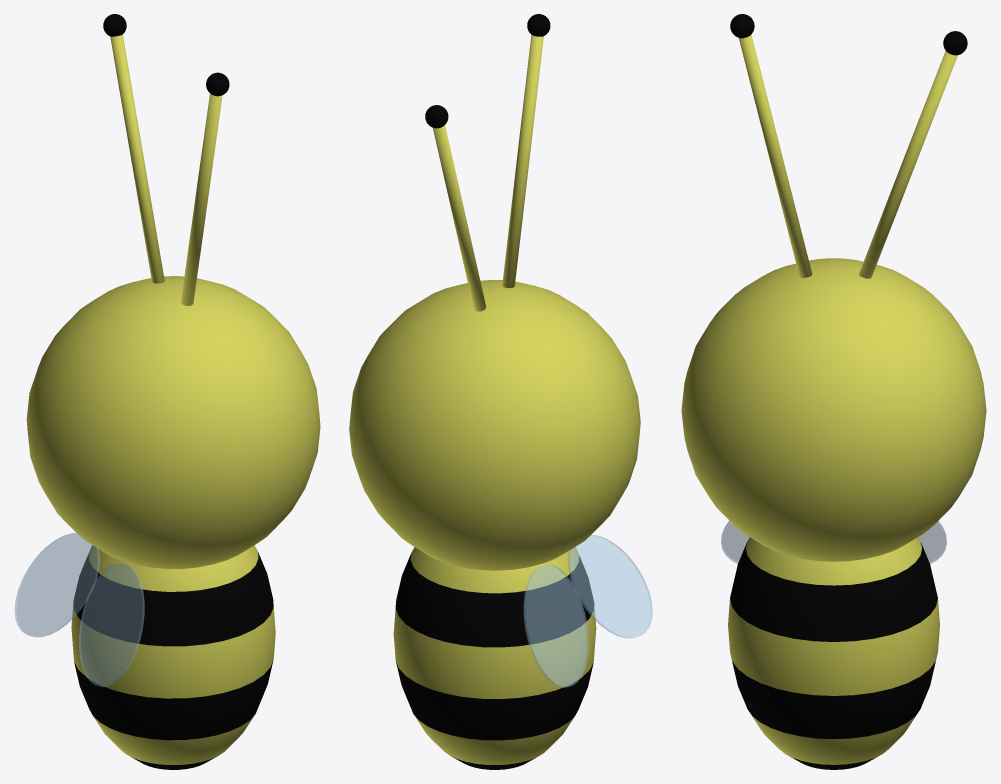
Rendered from Bee.glb.
3 renders of one model, left to right at view 1: azimuth 30°, elevation 25°; view 2: azimuth 150°, elevation 25°; view 3: azimuth 270°, elevation 25°, orthographic. The views are drawn at different scales.
Parts seen in each view (by area): view 1: Sphere, Sphere.001, Cylinder.003, Cylinder.002, Cylinder.001, Cylinder; view 2: Sphere, Sphere.001, Cylinder.002, Cylinder.003, Cylinder, Cylinder.001; view 3: Sphere, Sphere.001, Cylinder, Cylinder.001, Cylinder.002, Cylinder.003.
Part boxes in pixels (x1=…): Sphere: x1=26, y1=276, x2=320, y2=568; Sphere.001: x1=71, y1=545, x2=275, y2=769; Cylinder.003: x1=79, y1=562, x2=144, y2=686; Cylinder.002: x1=14, y1=533, x2=99, y2=637; Cylinder.001: x1=110, y1=34, x2=164, y2=283; Cylinder: x1=181, y1=93, x2=222, y2=305; Sphere: x1=349, y1=280, x2=640, y2=570; Sphere.001: x1=393, y1=547, x2=596, y2=769; Cylinder.002: x1=523, y1=564, x2=588, y2=687; Cylinder.003: x1=568, y1=535, x2=652, y2=638; Cylinder: x1=502, y1=35, x2=543, y2=288; Cylinder.001: x1=433, y1=125, x2=486, y2=311; Sphere: x1=681, y1=258, x2=986, y2=561; Sphere.001: x1=728, y1=537, x2=939, y2=769; Cylinder: x1=739, y1=34, x2=812, y2=277; Cylinder.001: x1=859, y1=51, x2=957, y2=278; Cylinder.002: x1=918, y1=521, x2=946, y2=563; Cylinder.003: x1=721, y1=521, x2=749, y2=563.
Size of the model in its own units: 2 by 5.41 by 2.
